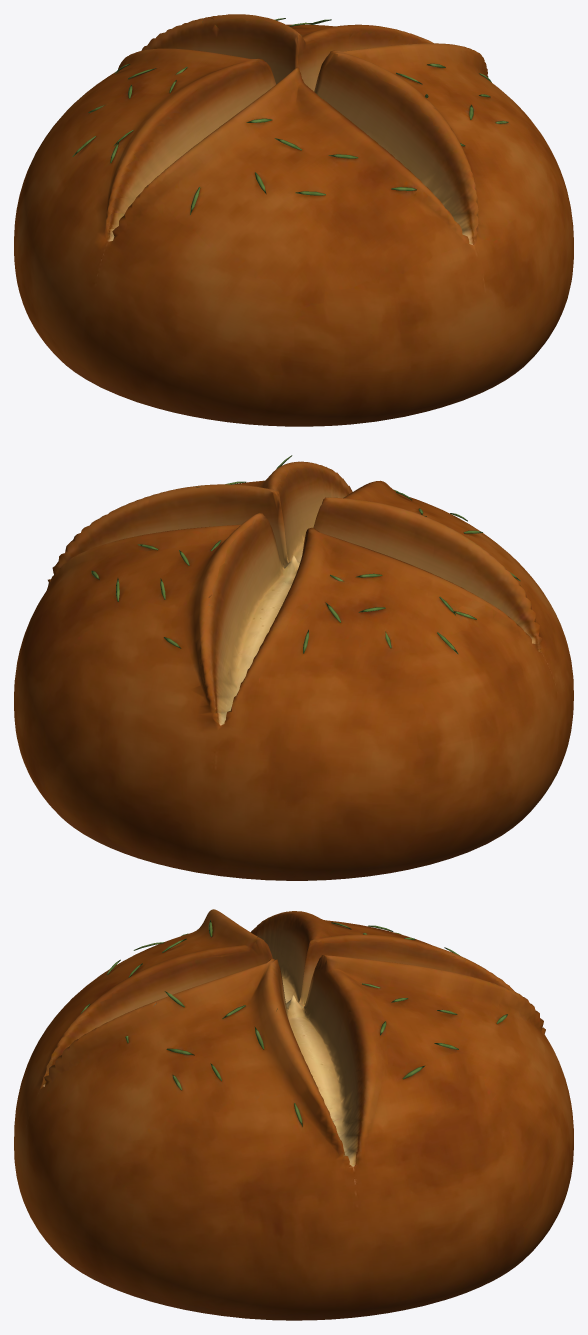
File: campagne--rosemary-dried.glb
The picture shows the model from 3 angles, top to bottom: view 1: azimuth 30°, elevation 25°; view 2: azimuth 150°, elevation 25°; view 3: azimuth 270°, elevation 25°; orthographic projection.
Visible parts, largest first — view 1: campagne_rosemary-dried; view 2: campagne_rosemary-dried; view 3: campagne_rosemary-dried.
Boxes of the visible parts, x1,y1,x2,y2 form: campagne_rosemary-dried: (14,14,573,426); campagne_rosemary-dried: (14,455,573,880); campagne_rosemary-dried: (14,909,573,1320).
Bounding box in the file's own units: 0.9987 × 0.5303 × 0.9991.
Materials: 1 (1 with a texture image).
